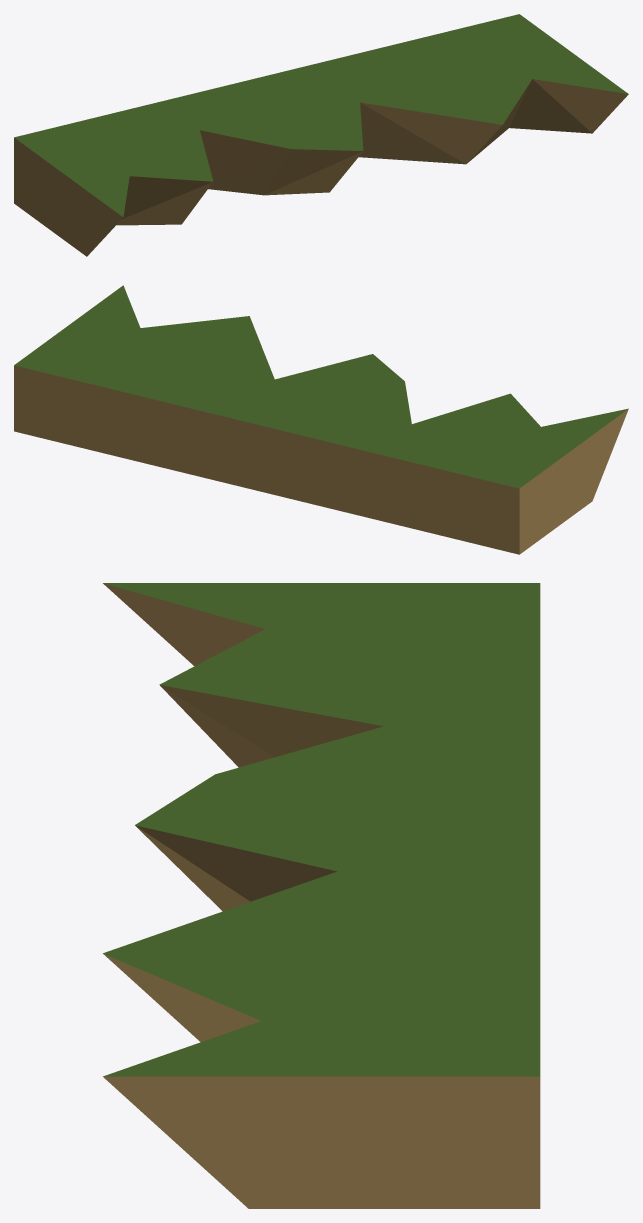
Rendered from Terrain_Tile_Grass_Dirt_Ledge_01.fbx.
The picture shows the model from 3 angles, top to bottom: view 1: azimuth 30°, elevation 25°; view 2: azimuth 150°, elevation 25°; view 3: azimuth 270°, elevation 25°; orthographic projection. The views are drawn at different scales.
Parts seen in each view (by area): view 1: Model; view 2: Model; view 3: Model.
Boxes of the visible parts, x1,y1,x2,y2 form: Model: (14, 14, 628, 256); Model: (14, 285, 628, 554); Model: (103, 583, 540, 1208).
Bounding box in the file's own units: 2000 × 250 × 750.
